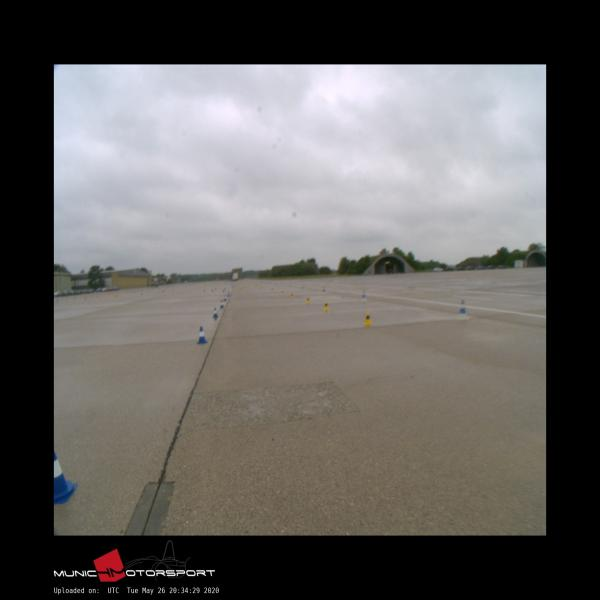blue_cone: (54, 450, 78, 504), (196, 327, 208, 343), (213, 307, 218, 317), (220, 300, 224, 308)
yellow_cone: (364, 311, 372, 324), (323, 302, 329, 310), (306, 297, 310, 303), (290, 292, 294, 298)
